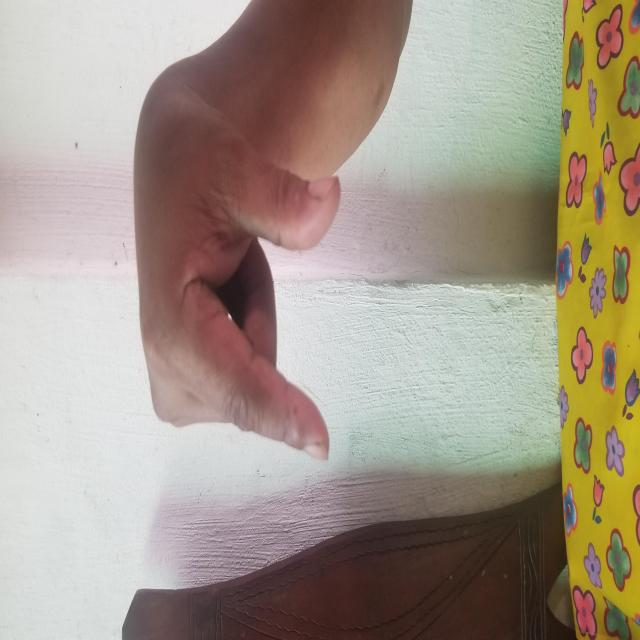Q: (105, 57, 401, 514)
